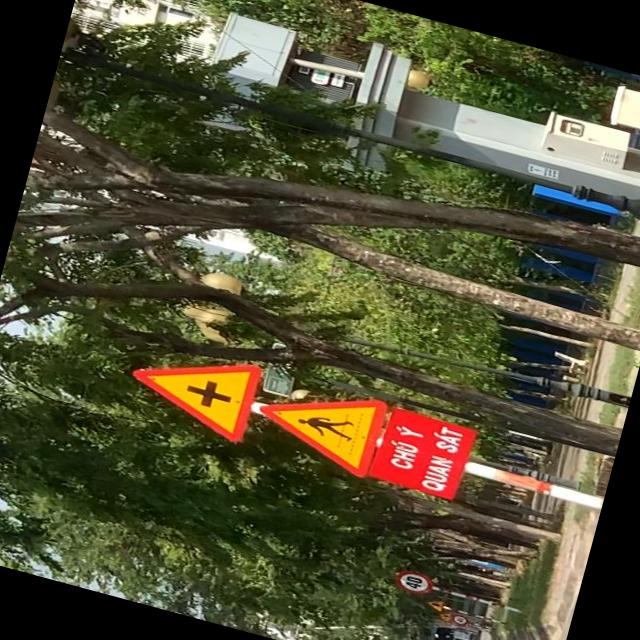P-127: (391, 566, 432, 598)
W-205a: (120, 333, 264, 446)
W-224: (245, 370, 391, 481)
